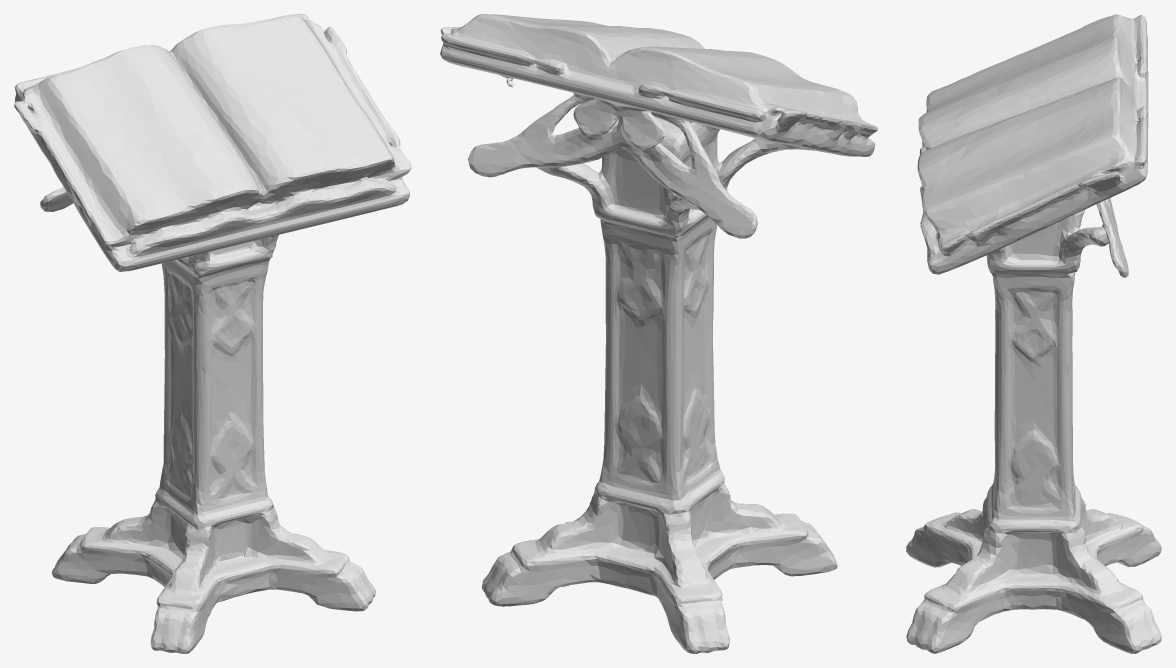
The model's file is book01.glb.
3 renders of one model, left to right at view 1: azimuth 30°, elevation 25°; view 2: azimuth 150°, elevation 25°; view 3: azimuth 270°, elevation 25°, orthographic. The views are drawn at different scales.
Visible parts, largest first — view 1: Low; view 2: Low; view 3: Low.
Part boxes in pixels (<box>): Low: <box>14,14,411,653</box>; Low: <box>440,14,877,653</box>; Low: <box>906,14,1161,653</box>.
Bounding box in the file's own units: 1.27 × 1.99 × 0.8606.
1 material, 1 textured.
